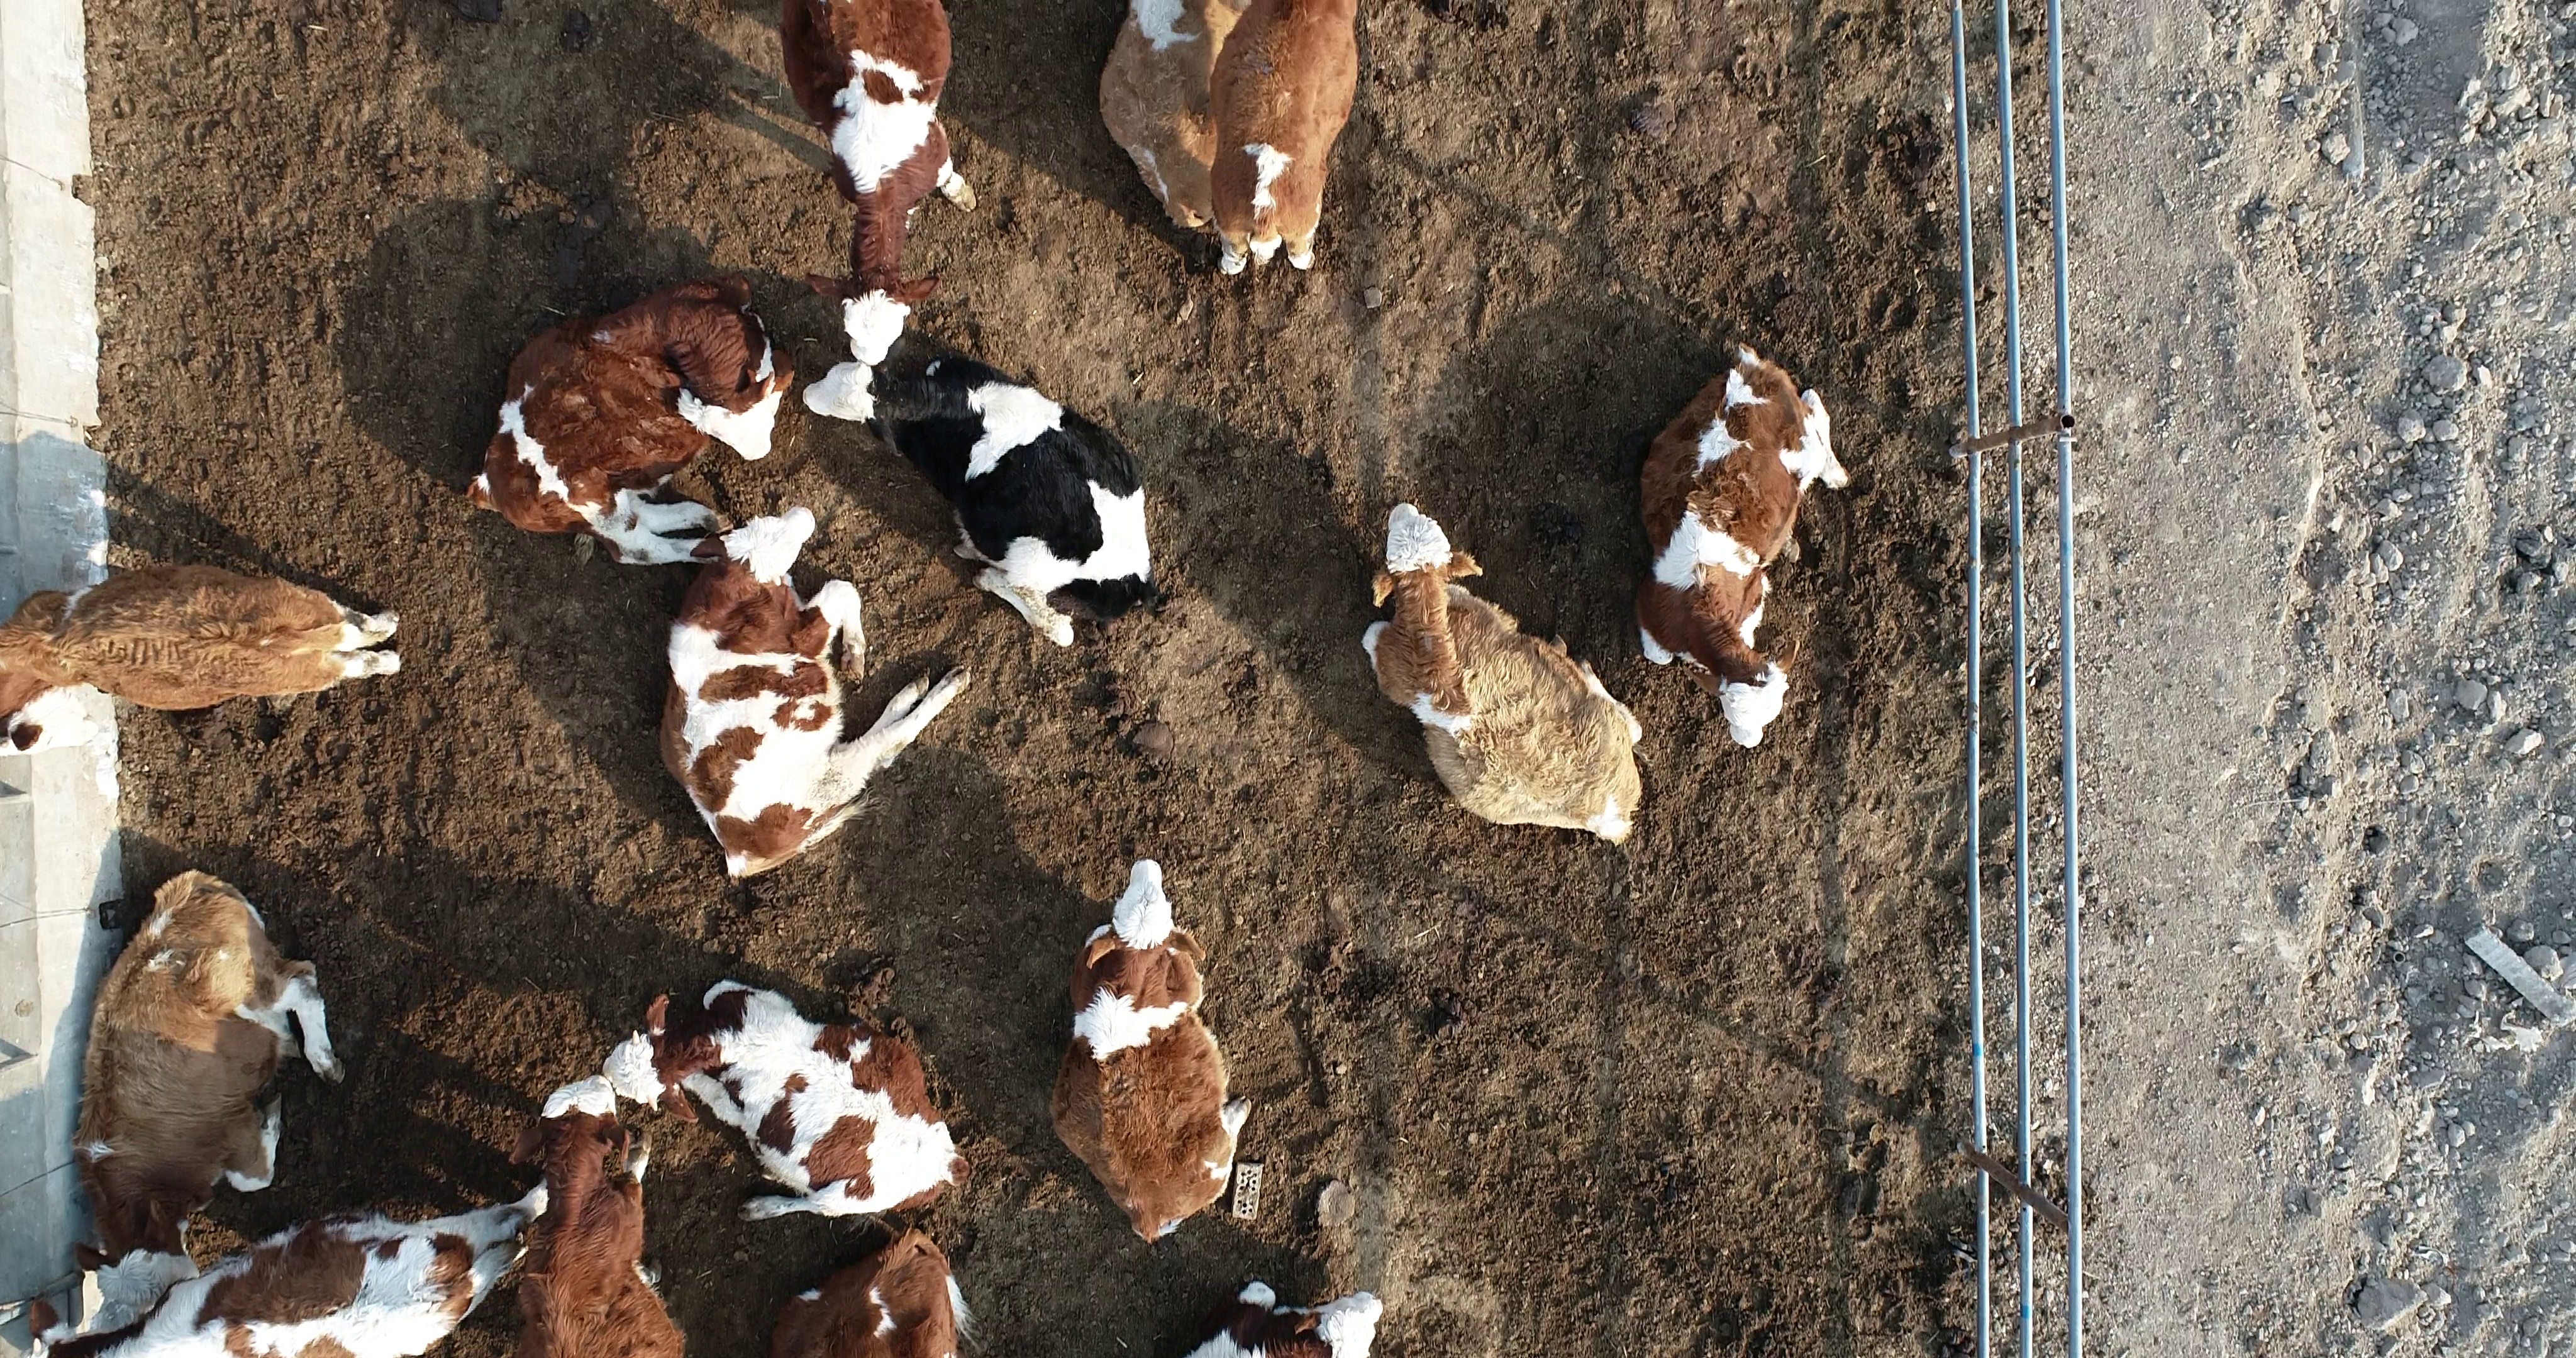cattle: (65, 866, 353, 1321), (654, 501, 980, 881), (804, 348, 1165, 649), (1356, 496, 1647, 850), (458, 273, 801, 569), (1627, 334, 1857, 757), (598, 976, 980, 1230), (1044, 854, 1257, 1247), (2, 562, 409, 760)
